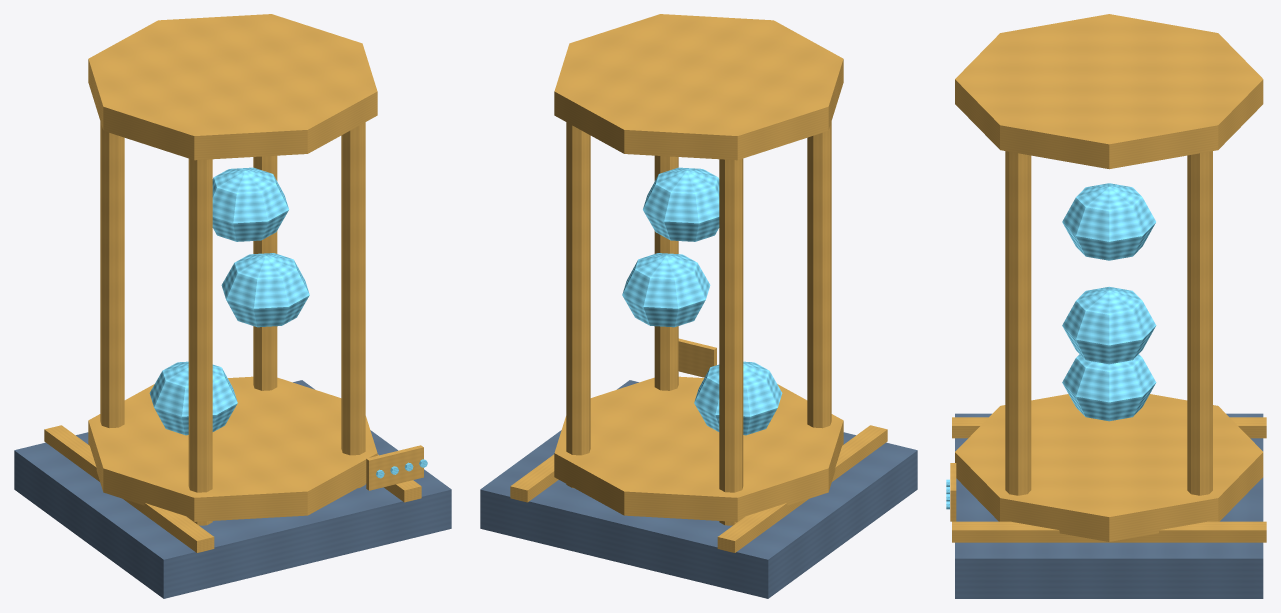
The model's file is atlas100-s051-a01.glb.
3 renders of one model, left to right at view 1: azimuth 30°, elevation 25°; view 2: azimuth 150°, elevation 25°; view 3: azimuth 270°, elevation 25°, orthographic. The views are drawn at different scales.
Parts seen in each view (by area): view 1: atlas100-s051-a01:part-004, atlas100-s051-a01:part-003, atlas100-s051-a01:part-000, atlas100-s051-a01:part-007, atlas100-s051-a01:part-005, atlas100-s051-a01:part-009, atlas100-s051-a01:part-014, atlas100-s051-a01:part-015, atlas100-s051-a01:part-013, atlas100-s051-a01:part-001, atlas100-s051-a01:part-011, atlas100-s051-a01:part-016; view 2: atlas100-s051-a01:part-004, atlas100-s051-a01:part-000, atlas100-s051-a01:part-003, atlas100-s051-a01:part-009, atlas100-s051-a01:part-011, atlas100-s051-a01:part-007, atlas100-s051-a01:part-014, atlas100-s051-a01:part-015, atlas100-s051-a01:part-013, atlas100-s051-a01:part-001, atlas100-s051-a01:part-005, atlas100-s051-a01:part-002 (+1 smaller); view 3: atlas100-s051-a01:part-004, atlas100-s051-a01:part-003, atlas100-s051-a01:part-000, atlas100-s051-a01:part-005, atlas100-s051-a01:part-011, atlas100-s051-a01:part-014, atlas100-s051-a01:part-015, atlas100-s051-a01:part-002, atlas100-s051-a01:part-013, atlas100-s051-a01:part-001.
Part boxes in pixels (x1=…): atlas100-s051-a01:part-004: x1=88, y1=14, x2=377, y2=160; atlas100-s051-a01:part-003: x1=88, y1=376, x2=377, y2=521; atlas100-s051-a01:part-000: x1=14, y1=380, x2=451, y2=598; atlas100-s051-a01:part-007: x1=188, y1=158, x2=212, y2=525; atlas100-s051-a01:part-005: x1=341, y1=122, x2=365, y2=488; atlas100-s051-a01:part-009: x1=100, y1=122, x2=124, y2=428; atlas100-s051-a01:part-014: x1=221, y1=253, x2=309, y2=327; atlas100-s051-a01:part-015: x1=212, y1=167, x2=288, y2=241; atlas100-s051-a01:part-013: x1=149, y1=361, x2=237, y2=435; atlas100-s051-a01:part-001: x1=44, y1=425, x2=214, y2=552; atlas100-s051-a01:part-011: x1=253, y1=155, x2=277, y2=390; atlas100-s051-a01:part-016: x1=366, y1=445, x2=423, y2=490; atlas100-s051-a01:part-004: x1=554, y1=14, x2=843, y2=160; atlas100-s051-a01:part-000: x1=480, y1=380, x2=917, y2=598; atlas100-s051-a01:part-003: x1=554, y1=376, x2=843, y2=521; atlas100-s051-a01:part-009: x1=719, y1=158, x2=743, y2=525; atlas100-s051-a01:part-011: x1=566, y1=122, x2=590, y2=488; atlas100-s051-a01:part-007: x1=807, y1=122, x2=831, y2=428; atlas100-s051-a01:part-014: x1=622, y1=253, x2=710, y2=327; atlas100-s051-a01:part-015: x1=643, y1=167, x2=719, y2=241; atlas100-s051-a01:part-013: x1=694, y1=361, x2=782, y2=435; atlas100-s051-a01:part-001: x1=717, y1=425, x2=887, y2=552; atlas100-s051-a01:part-005: x1=654, y1=155, x2=678, y2=390; atlas100-s051-a01:part-002: x1=510, y1=454, x2=558, y2=502; atlas100-s051-a01:part-004: x1=955, y1=14, x2=1263, y2=169; atlas100-s051-a01:part-003: x1=955, y1=394, x2=1263, y2=541; atlas100-s051-a01:part-000: x1=955, y1=413, x2=1263, y2=598; atlas100-s051-a01:part-005: x1=1005, y1=151, x2=1031, y2=495; atlas100-s051-a01:part-011: x1=1187, y1=151, x2=1212, y2=495; atlas100-s051-a01:part-014: x1=1062, y1=286, x2=1156, y2=364; atlas100-s051-a01:part-015: x1=1062, y1=183, x2=1155, y2=260; atlas100-s051-a01:part-002: x1=952, y1=521, x2=1266, y2=542; atlas100-s051-a01:part-013: x1=1062, y1=354, x2=1156, y2=421; atlas100-s051-a01:part-001: x1=952, y1=417, x2=1266, y2=438.
Size of the model in its own units: 2 by 2.88 by 1.87.
3 materials, 3 textured.
